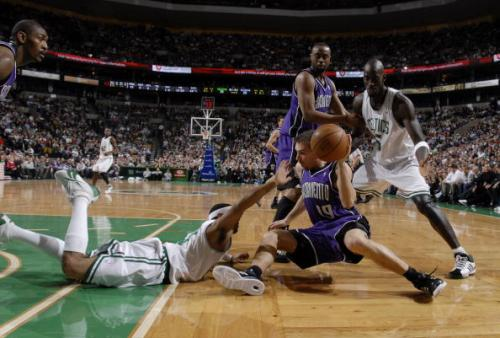10+: (1, 15, 500, 294)
down: (215, 125, 458, 310), (1, 168, 241, 286)
